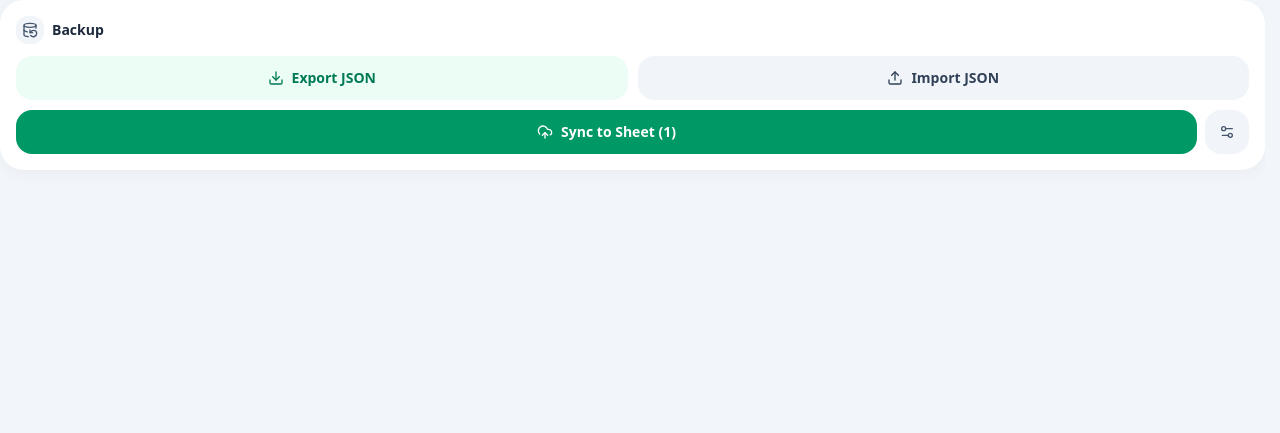
Test case: BackupControls Google Sheet Sync › opens settings with a clear hint when Worker returns Unauthorized
Click the button "Sync to Sheet (1)": coordinates (606, 132) [16, 110, 1197, 154]
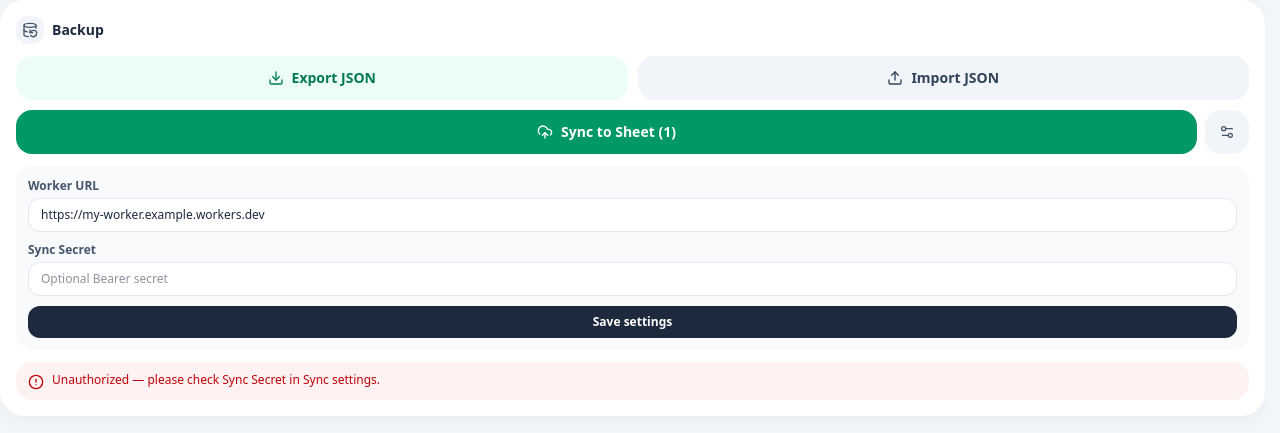
Result: the message reads "Unauthorized — please check Sync Secret in Sync settings." at [52, 371, 380, 388]
Result: the password field labelled "Sync Secret" is shown at [28, 262, 1237, 296]
